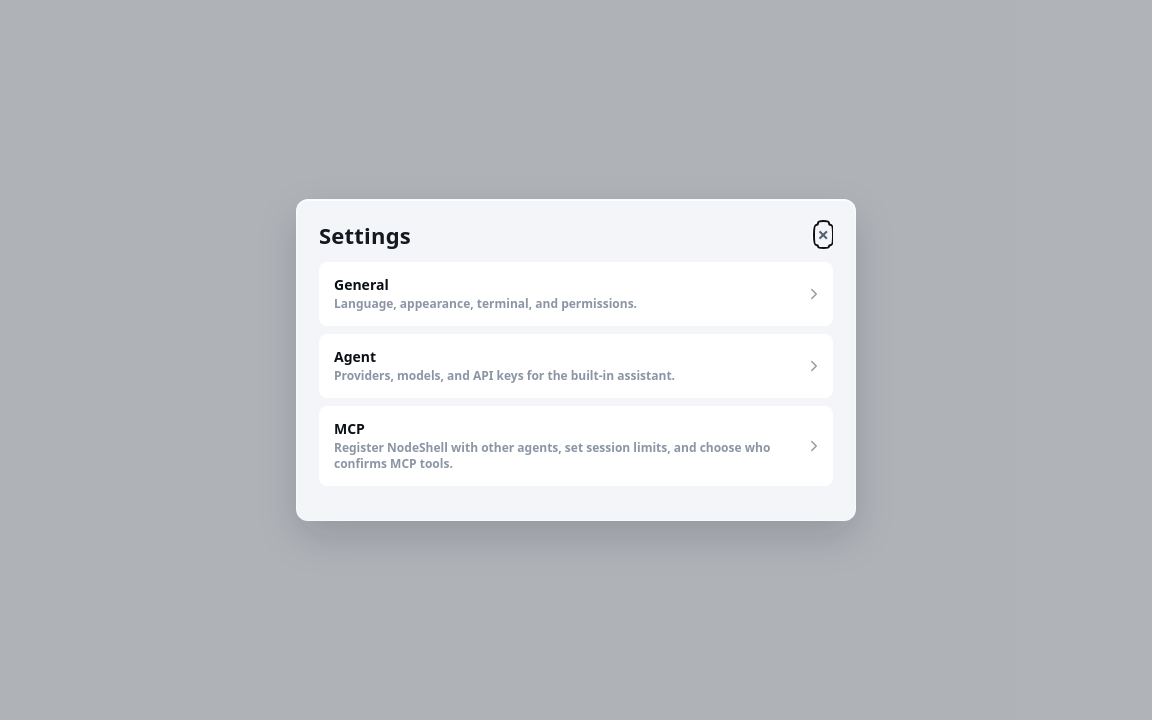
SettingsModal agent runtime › renders the runtime controls with the persisted values
Step 1. Click the button "Agent" → (576, 366), box [319,334,833,398]
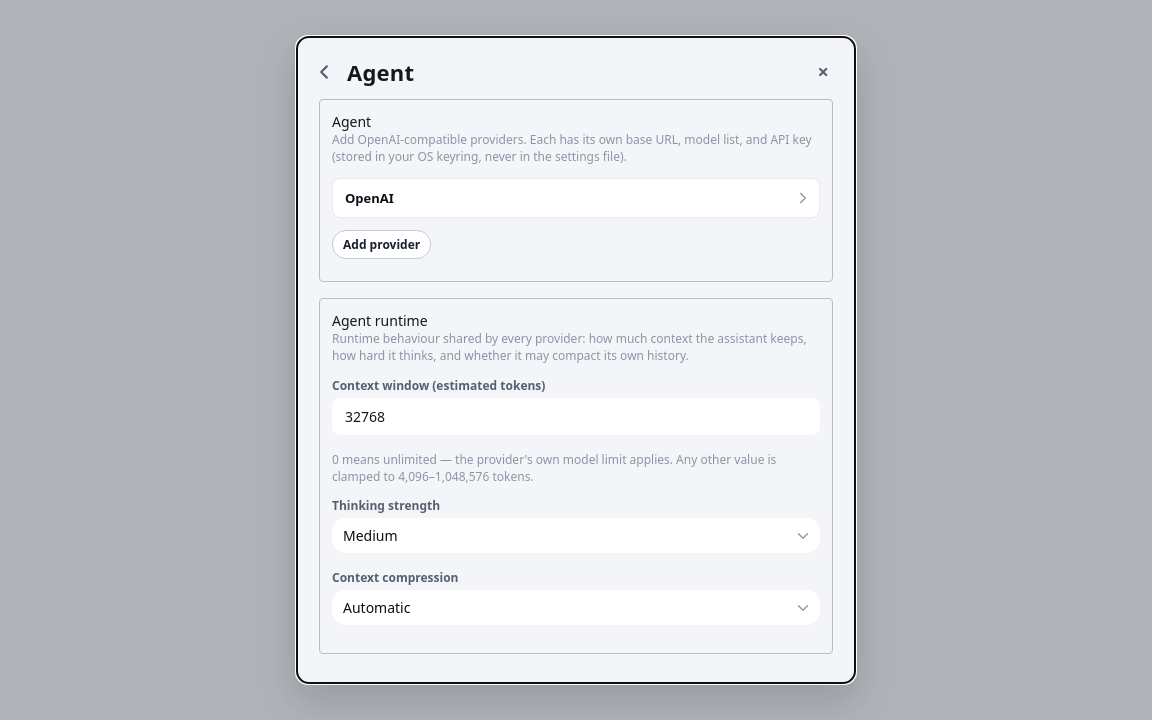
Check: the field labelled "Context window (estimated tokens)" is enabled, box [332,398,820,435]
Check: the field labelled "Context window (estimated tokens)" holds "32768", box [332,398,820,435]
Check: the dropdown named "Thinking strength" shows "Medium", box [332,518,820,553]
